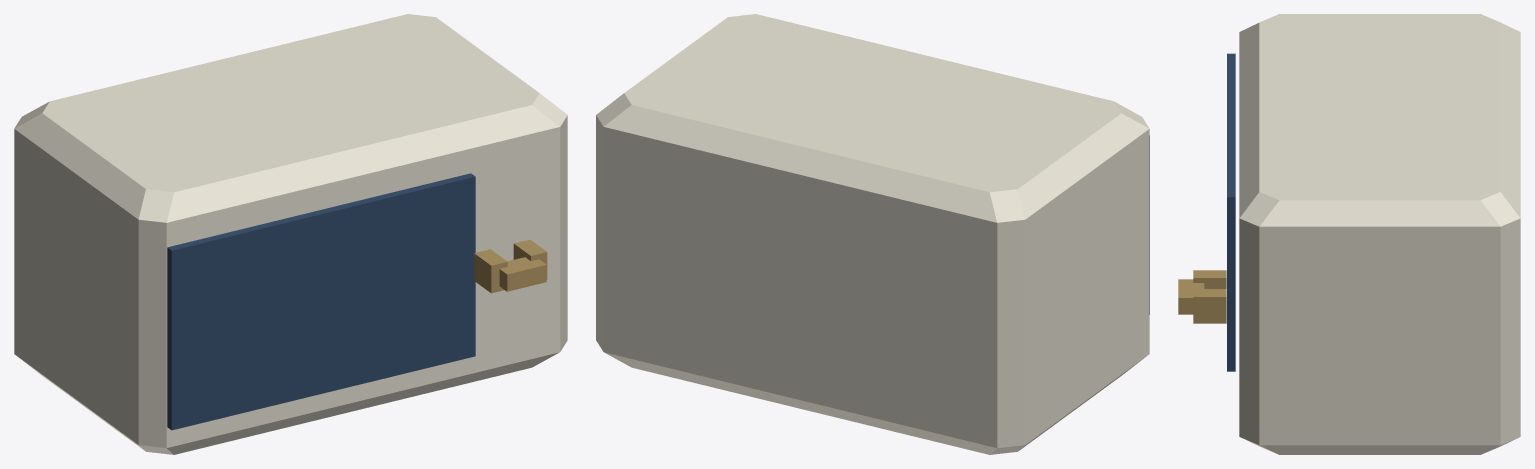
Rendered from microwave.glb.
3 renders of one model, left to right at view 1: azimuth 30°, elevation 25°; view 2: azimuth 150°, elevation 25°; view 3: azimuth 270°, elevation 25°, orthographic. The views are drawn at different scales.
Visible parts, largest first — view 1: _MeshInstance3D_1325, _MeshInstance3D_1326, _MeshInstance3D_1329, _MeshInstance3D_1327, _MeshInstance3D_1328; view 2: _MeshInstance3D_1325; view 3: _MeshInstance3D_1325, _MeshInstance3D_1326, _MeshInstance3D_1328, _MeshInstance3D_1329, _MeshInstance3D_1327.
Boxes of the visible parts, x1,y1,x2,y2 form: _MeshInstance3D_1325: (14, 14, 567, 454); _MeshInstance3D_1326: (167, 173, 475, 430); _MeshInstance3D_1329: (499, 257, 546, 291); _MeshInstance3D_1327: (474, 249, 507, 293); _MeshInstance3D_1328: (513, 239, 547, 279); _MeshInstance3D_1325: (596, 14, 1149, 454); _MeshInstance3D_1325: (1239, 14, 1520, 454); _MeshInstance3D_1326: (1227, 53, 1235, 371); _MeshInstance3D_1328: (1193, 289, 1226, 323); _MeshInstance3D_1329: (1178, 279, 1204, 314); _MeshInstance3D_1327: (1193, 270, 1226, 288).
Bounding box in the file's own units: 0.65 × 0.38 × 0.4625.
